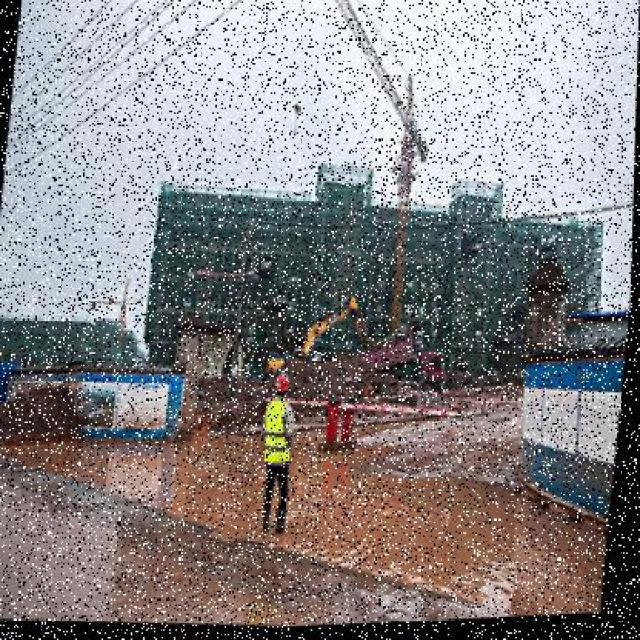helmet: (272, 374, 296, 401)
vest: (263, 400, 297, 468)
